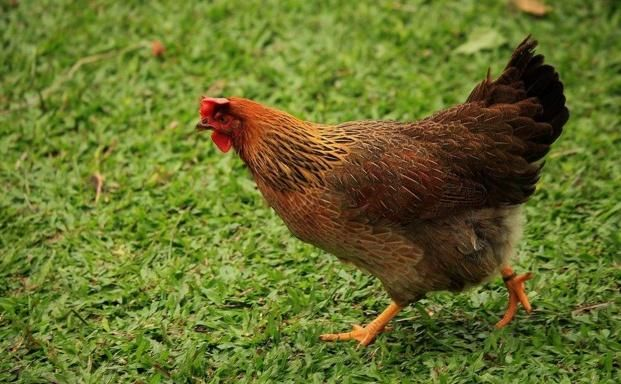chicken: (190, 30, 579, 353)
